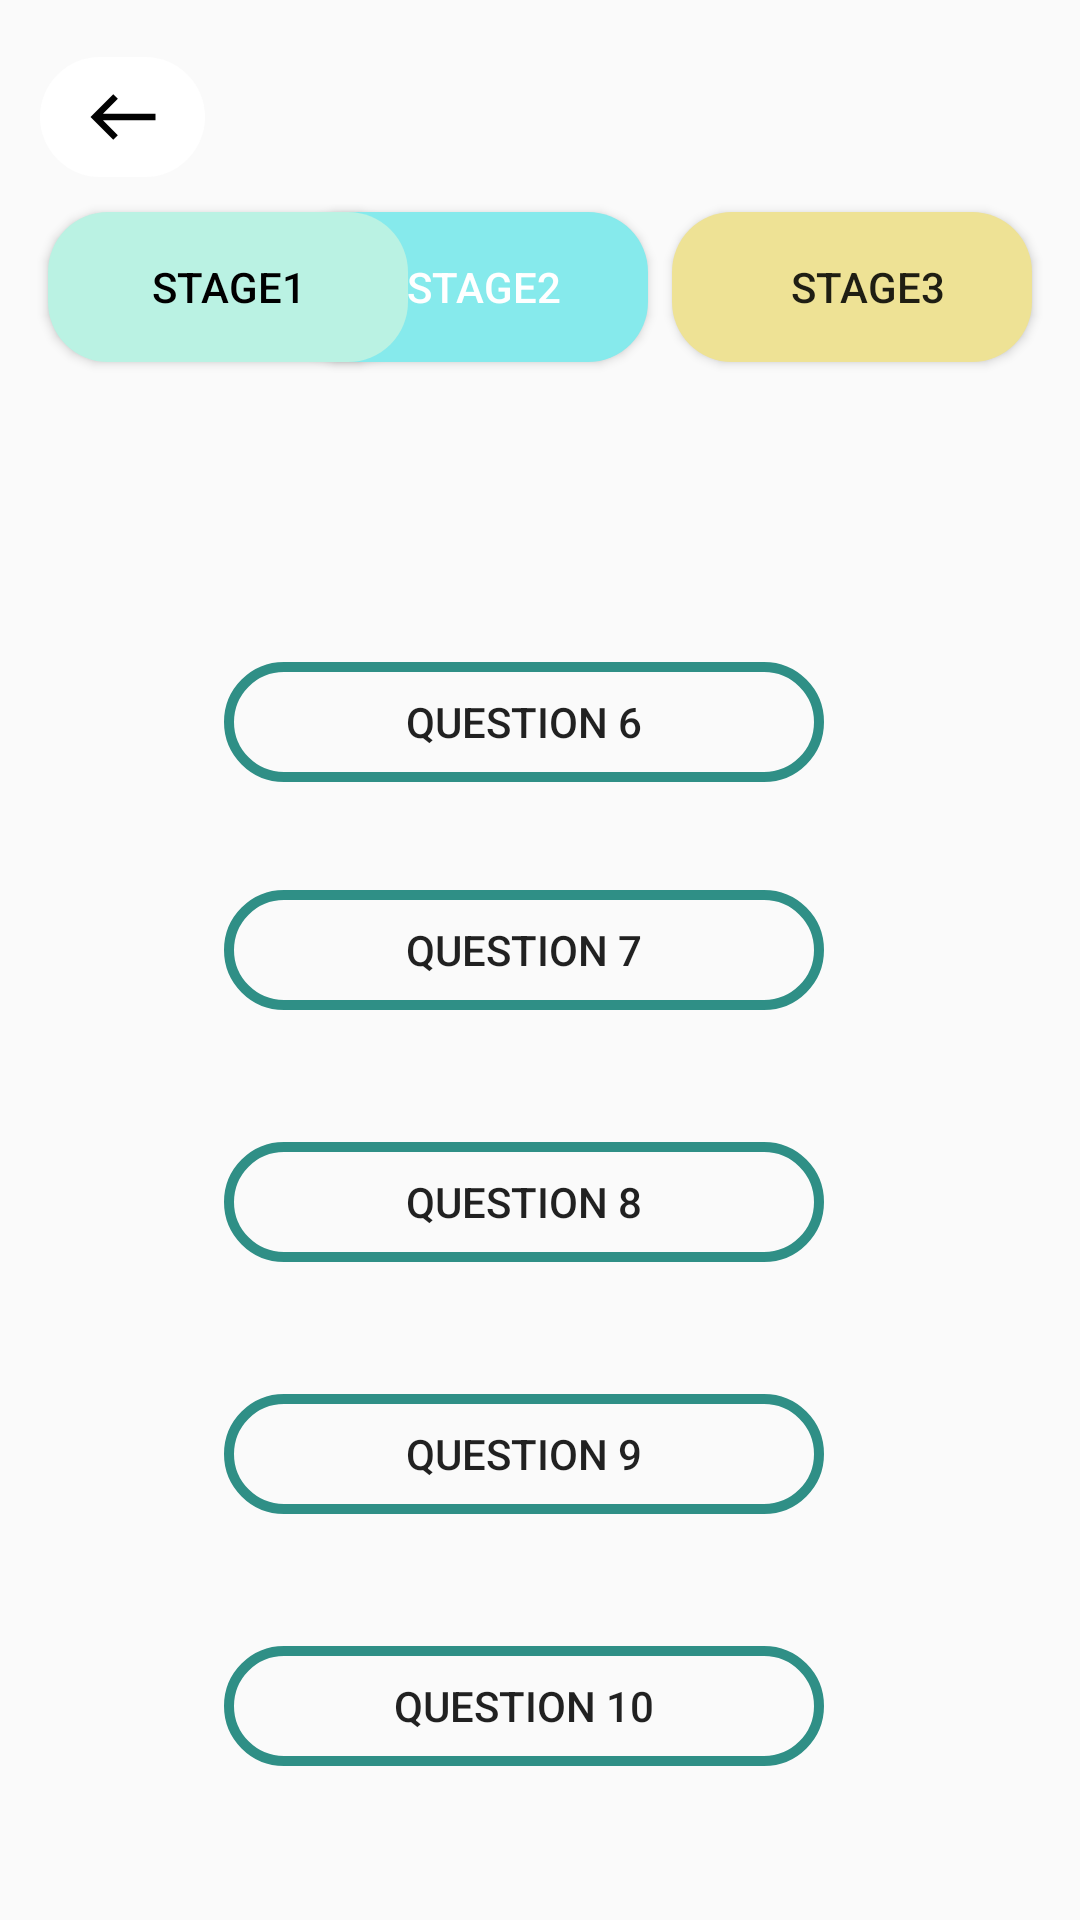

Where icons sit on this 1080*1920 app screen, as (left=x1, top=y1, right=x2, bottom=y2):
west: (left=90, top=94, right=156, bottom=140)
